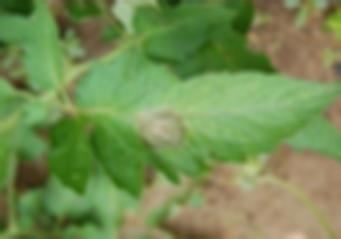Tomato leaf late blight: (67, 48, 341, 171)
